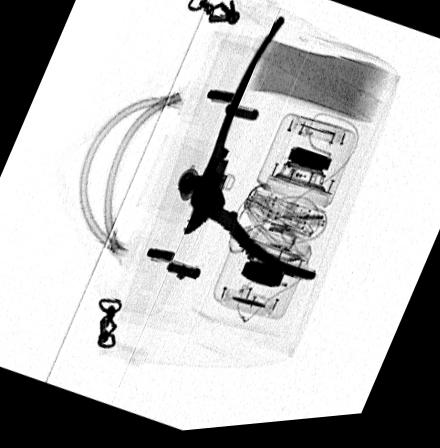Pliers: (176, 19, 319, 288)
